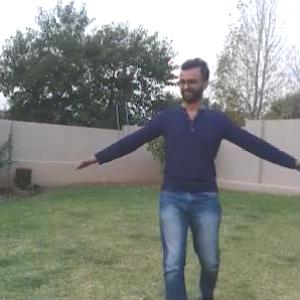land: (65, 41, 298, 299)
